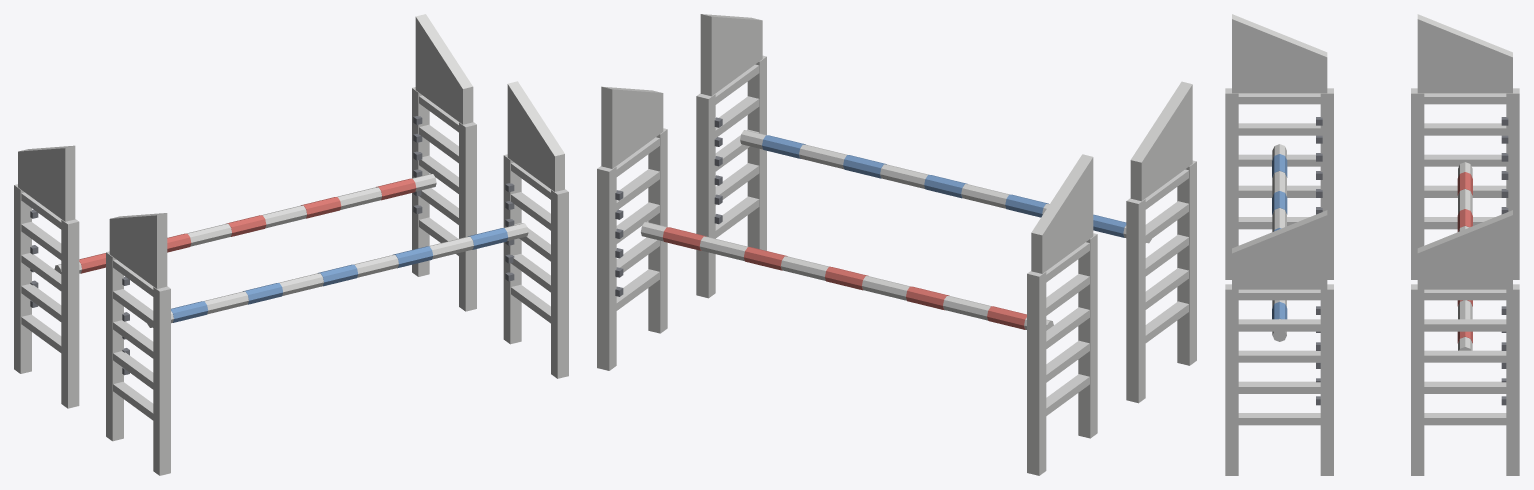
Rendered from jump-oxer.glb.
3 views of the same model, side by side, from view 1: azimuth 30°, elevation 25°; view 2: azimuth 150°, elevation 25°; view 3: azimuth 270°, elevation 25° (orthographic). The views are drawn at different scales.
Visible parts, largest first — view 1: jump-oxer; view 2: jump-oxer; view 3: jump-oxer.
Boxes of the visible parts, x1=… form: jump-oxer: x1=14, y1=14, x2=568, y2=475; jump-oxer: x1=597, y1=14, x2=1196, y2=475; jump-oxer: x1=1225, y1=14, x2=1519, y2=475.
Bounding box in the file's own units: 3.6 × 2.17 × 2.22.
